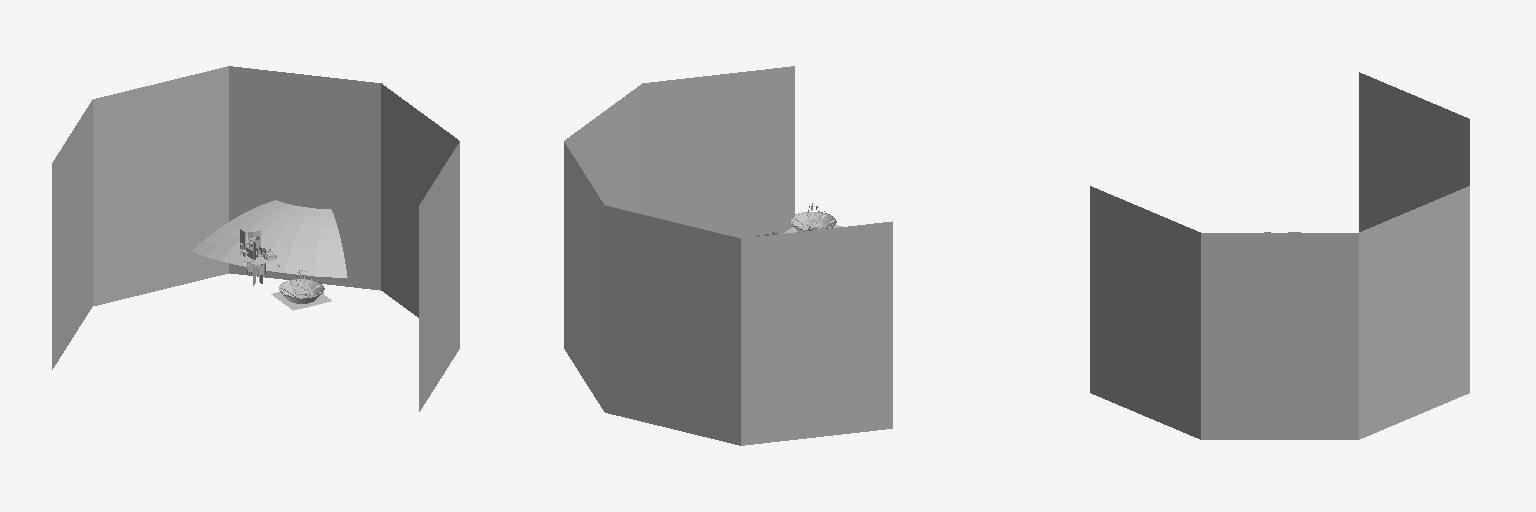
File: map_city00_00n_all.obj
The picture shows the model from 3 angles: view 1: azimuth 30°, elevation 25°; view 2: azimuth 150°, elevation 25°; view 3: azimuth 270°, elevation 25°; orthographic projection.
Parts seen in each view (by area): view 1: block531, block532; view 2: block531; view 3: block531.
Part boxes in pixels (x1,y1,x2,y2): block531: (52, 66, 459, 411); block532: (191, 200, 347, 277); block531: (564, 66, 892, 445); block531: (1090, 72, 1469, 439).
Size of the model in its own units: 8315 by 5000 by 8315.